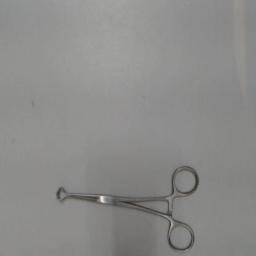Babcock Tissue Forceps: (52, 161, 202, 255)
